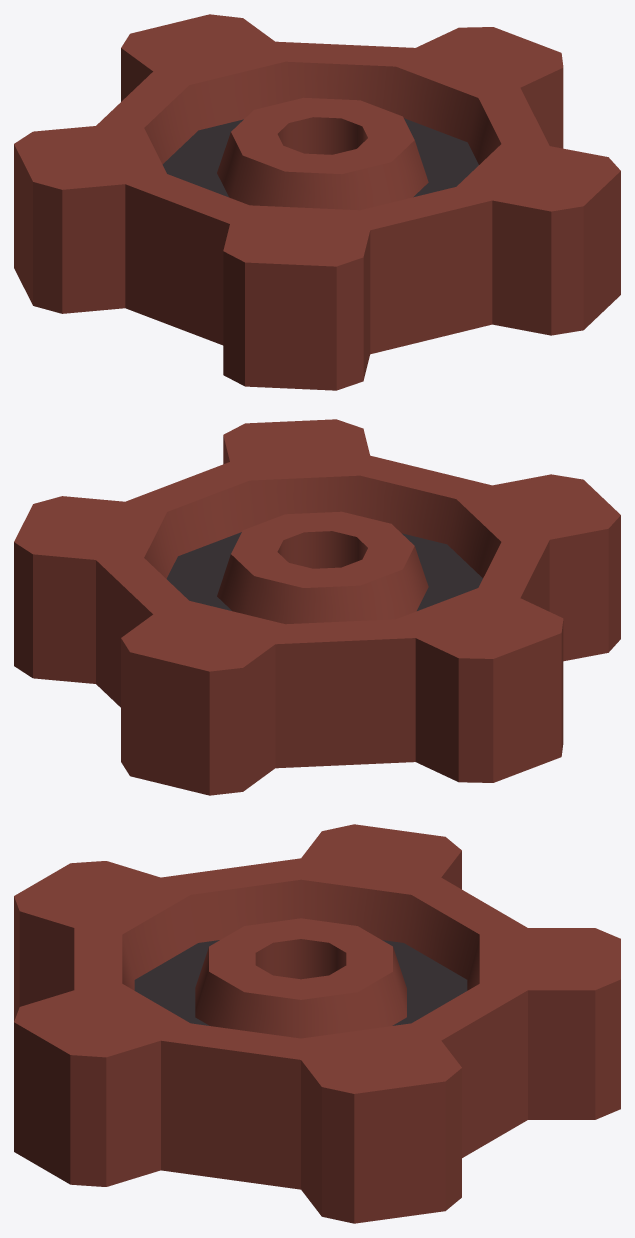
Rendered from Cog1.fbx.
3 renders of one model, top to bottom at view 1: azimuth 30°, elevation 25°; view 2: azimuth 150°, elevation 25°; view 3: azimuth 270°, elevation 25°, orthographic. The views are drawn at different scales.
Parts seen in each view (by area): view 1: Cog1; view 2: Cog1; view 3: Cog1.
Part boxes in pixels (x1,y1,x2,y2): Cog1: [14, 14, 620, 390]; Cog1: [14, 419, 620, 795]; Cog1: [14, 824, 620, 1223].
Bounding box in the file's own units: 80.77 × 18.11 × 76.81.
Materials: 1 (1 with a texture image).
